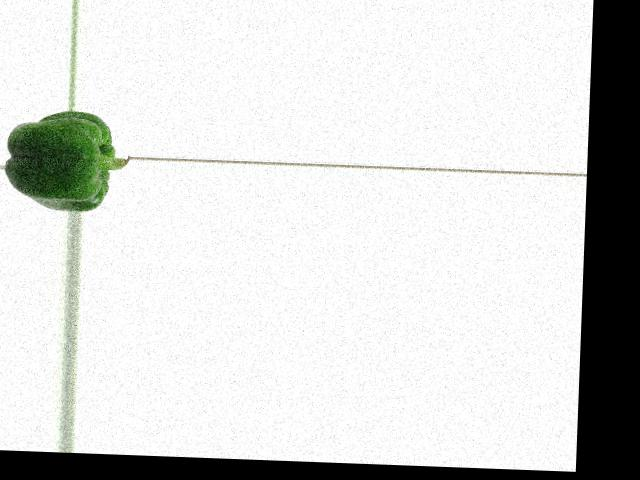bell_pepper: (3, 109, 129, 211)
